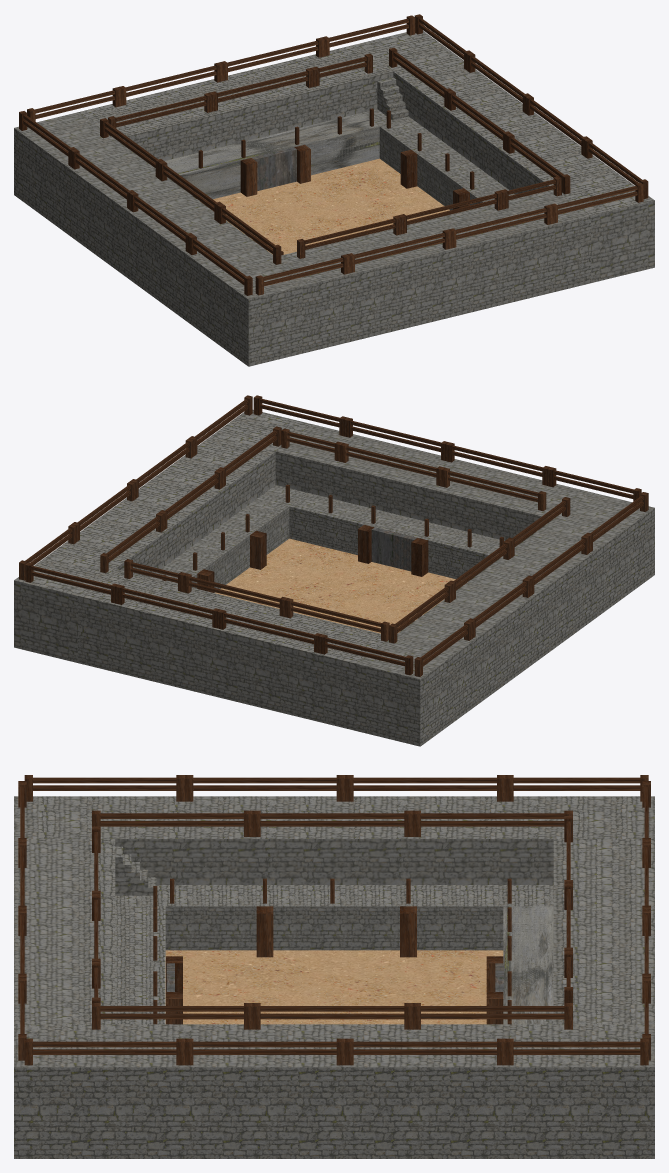
File: LevelDesign_Arena.fbx
3 views of the same model, one above another, from view 1: azimuth 30°, elevation 25°; view 2: azimuth 150°, elevation 25°; view 3: azimuth 270°, elevation 25° (orthographic). The views are drawn at different scales.
Parts seen in each view (by area): view 1: Cube.006, Cube.008, Cube.005, Cube.007, Cube, Cube.003, Cube.002, Cube.027, Cube.018, Cube.017, Cube.010, Cube.013 (+1 smaller); view 2: Cube.006, Cube.007, Cube.005, Cube.008, Cube, Cube.004, Cube.002, Cube.020, Cube.019, Cube.011, Cube.009, Cube.012; view 3: Cube.005, Cube.006, Cube.001, Cube, Cube.008, Cube.007, Cube.004, Cube.003, Cube.041, Cube.050, Cube.097, Cube.113 (+27 smaller).
Boxes of the visible parts, bbox=[...] form: Cube.006: bbox=[14, 112, 312, 366]; Cube.008: bbox=[281, 189, 590, 350]; Cube.005: bbox=[356, 31, 654, 282]; Cube.007: bbox=[78, 44, 393, 164]; Cube: bbox=[213, 158, 449, 254]; Cube.003: bbox=[150, 113, 379, 200]; Cube.002: bbox=[362, 109, 514, 210]; Cube.027: bbox=[377, 77, 408, 120]; Cube.018: bbox=[273, 147, 296, 186]; Cube.017: bbox=[251, 152, 275, 190]; Cube.010: bbox=[400, 149, 417, 188]; Cube.013: bbox=[240, 158, 257, 196]; Cube.006: bbox=[356, 492, 654, 746]; Cube.007: bbox=[78, 569, 385, 730]; Cube.005: bbox=[14, 410, 312, 662]; Cube.008: bbox=[275, 424, 590, 544]; Cube: bbox=[215, 538, 467, 633]; Cube.004: bbox=[289, 493, 518, 581]; Cube.002: bbox=[150, 485, 307, 592]; Cube.020: bbox=[371, 527, 395, 566]; Cube.019: bbox=[393, 532, 416, 571]; Cube.011: bbox=[411, 538, 428, 576]; Cube.009: bbox=[250, 530, 266, 569]; Cube.012: bbox=[358, 525, 374, 563]; Cube.005: bbox=[14, 1024, 654, 1158]; Cube.006: bbox=[14, 796, 654, 884]; Cube.001: bbox=[115, 885, 553, 950]; Cube: bbox=[165, 950, 503, 1024]; Cube.008: bbox=[14, 839, 115, 1024]; Cube.007: bbox=[553, 839, 654, 1024]; Cube.004: bbox=[115, 906, 165, 1024]; Cube.003: bbox=[503, 906, 553, 1024]; Cube.041: bbox=[115, 846, 156, 895]; Cube.050: bbox=[260, 1013, 404, 1019]; Cube.097: bbox=[193, 777, 336, 783]; Cube.113: bbox=[193, 1041, 336, 1047].
Size of the model in its own units: 7600 by 1527 by 7600.
Materials: 4 (4 with a texture image).
